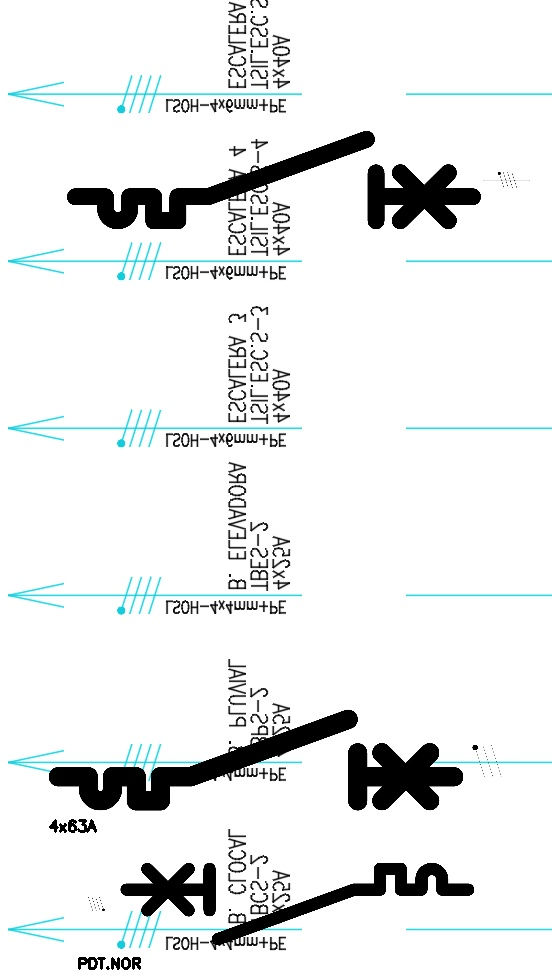interruptor_termomagnetico: (65, 129, 483, 231), (48, 709, 464, 811), (117, 860, 477, 948)
